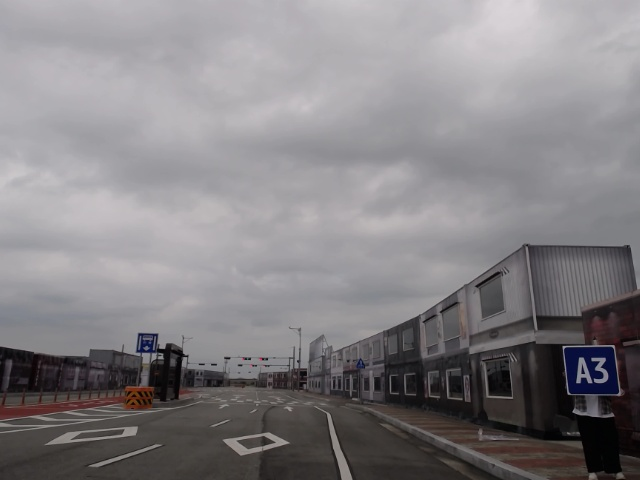delivery_a3: (563, 346, 620, 395)
